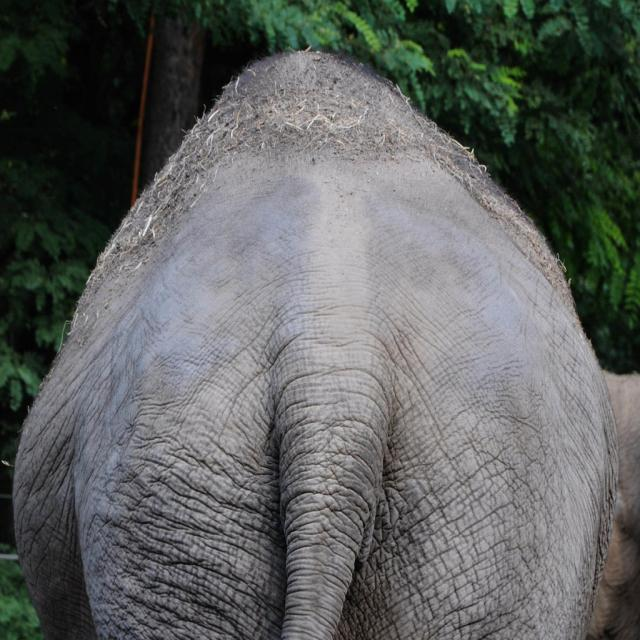Elephant: (14, 43, 621, 639)
